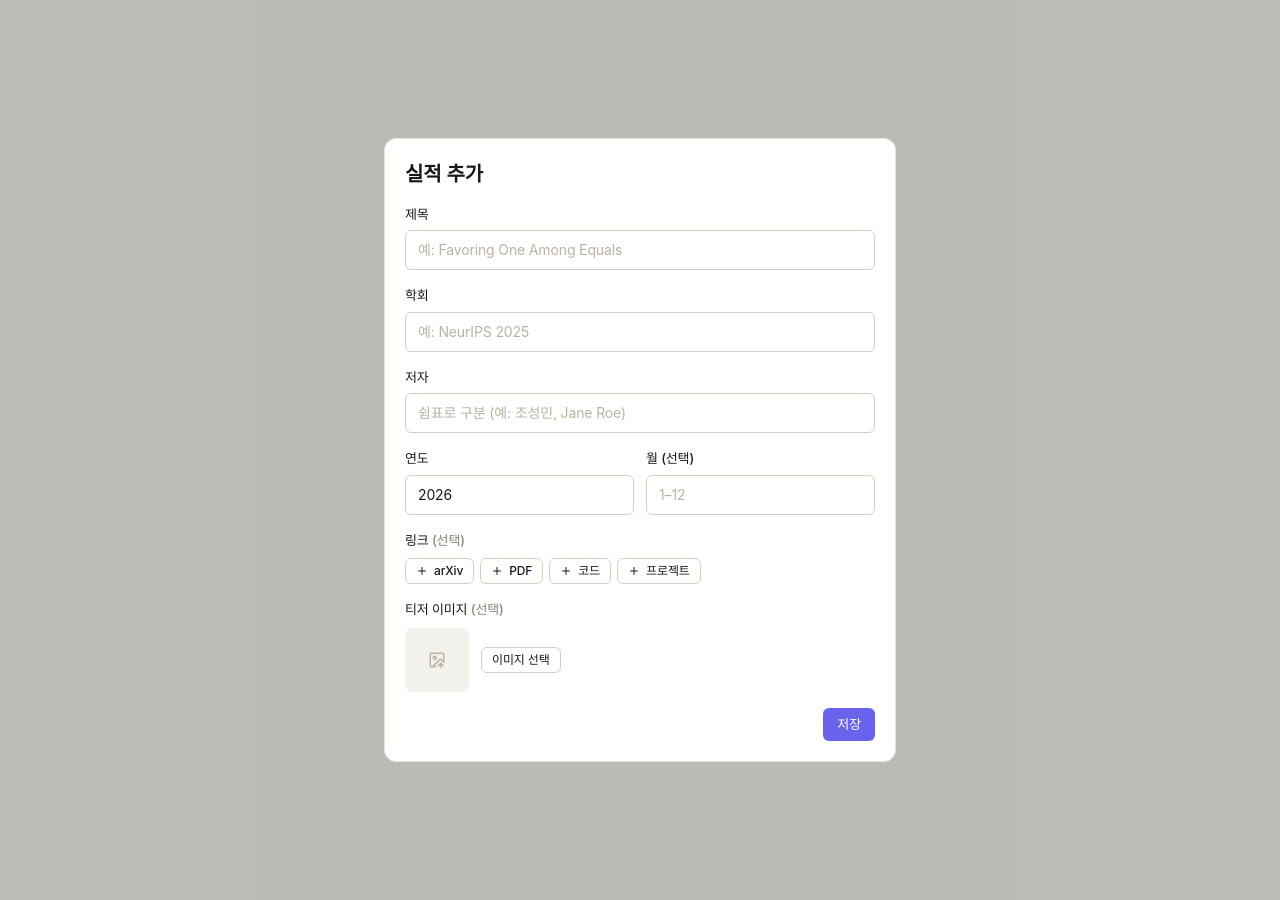
Scenario: PublicationForm 검증 › 제목·학회가 비면 인라인 에러를 보이고 요청하지 않는다(R30)
Click the button "저장" at (849, 725), box [823,708,875,741]
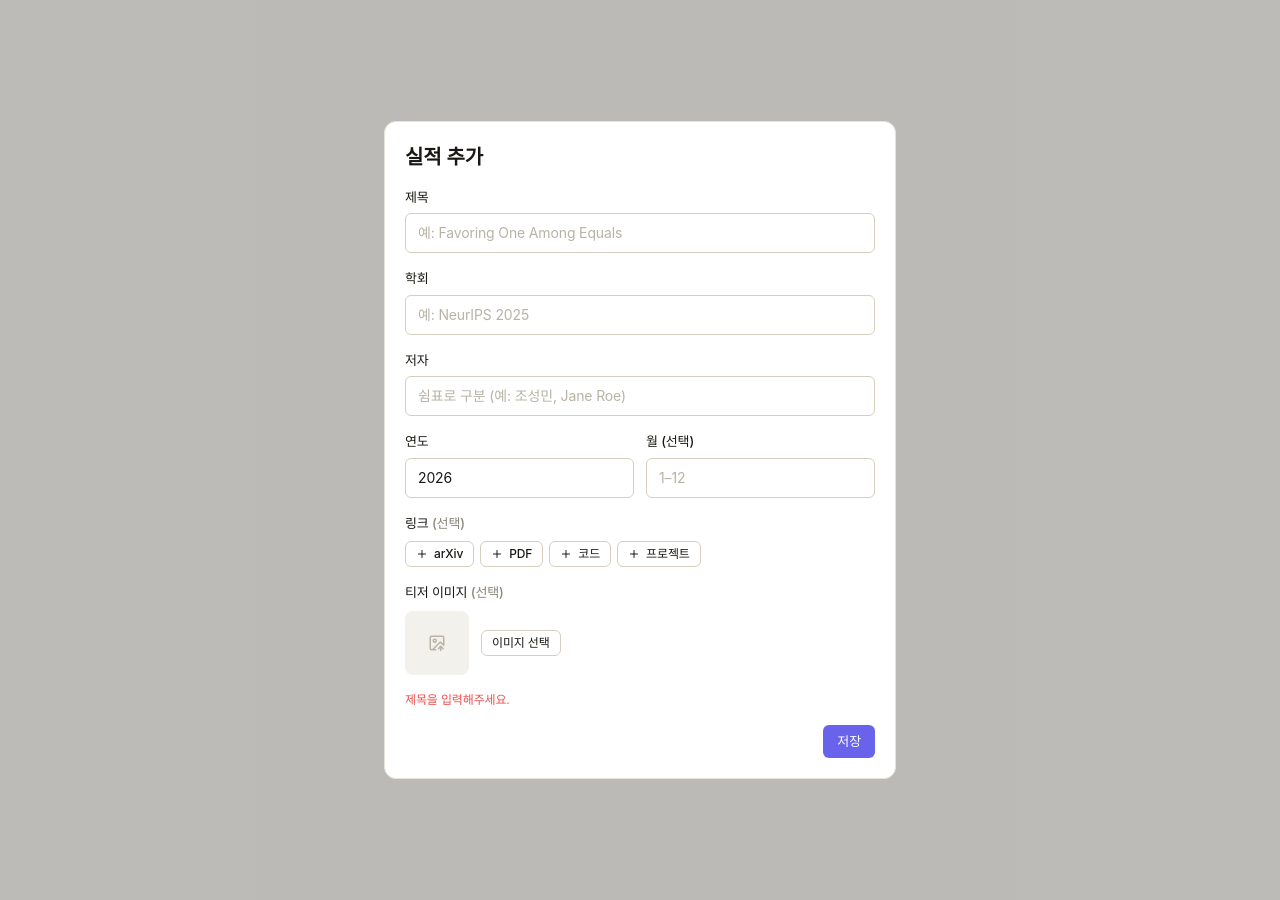
Now the message "제목을 입력해주세요." is shown, box [405,692,510,707]
